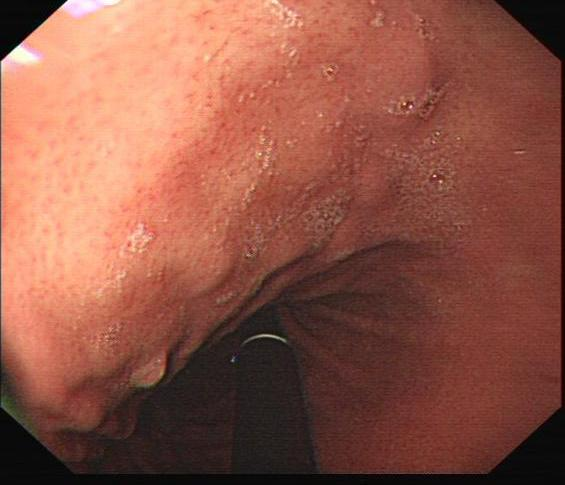Polyp: (119, 338, 174, 398)
